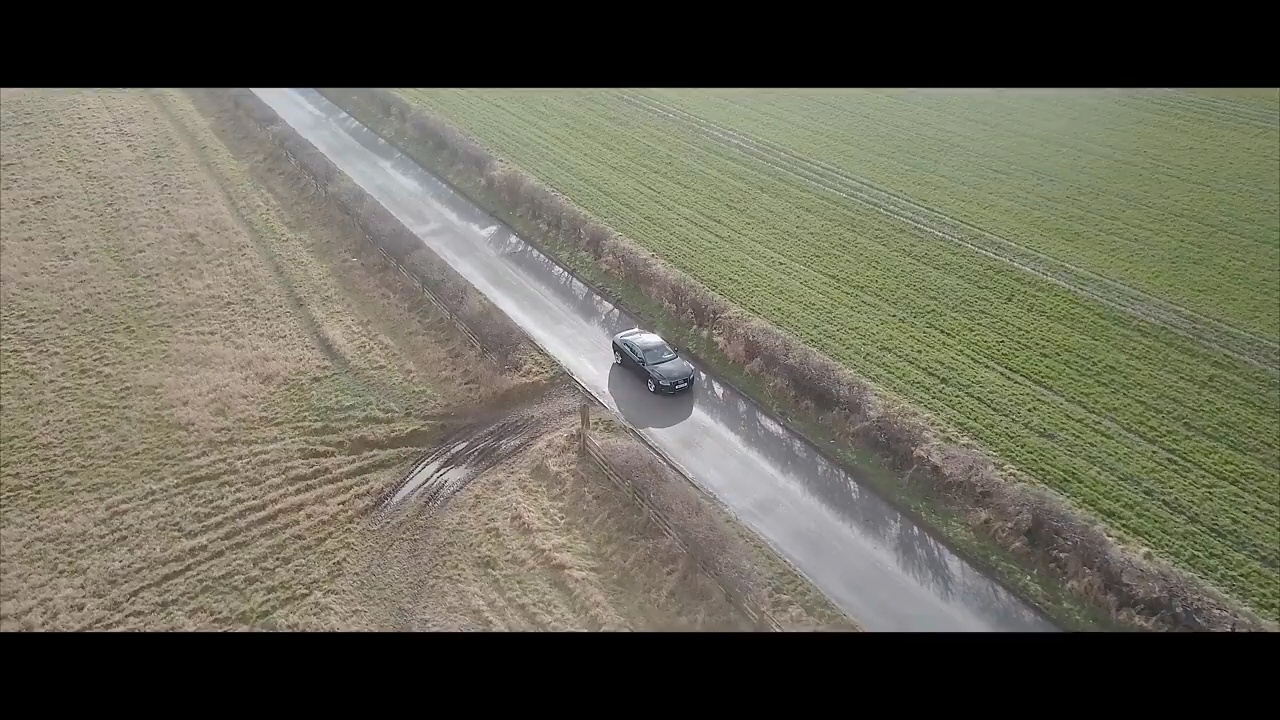araba: (607, 322, 697, 399)
